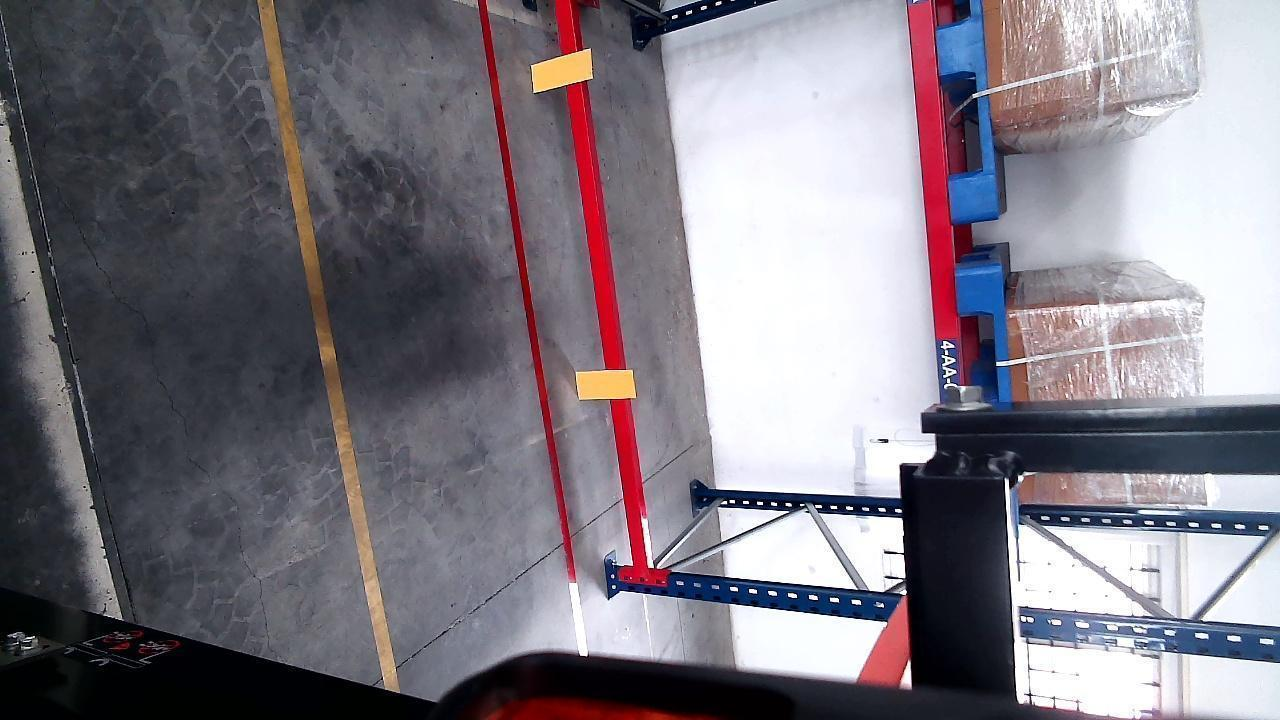red_line: (524, 0, 628, 617), (480, 0, 577, 598)
yellow_line: (247, 0, 411, 695)
